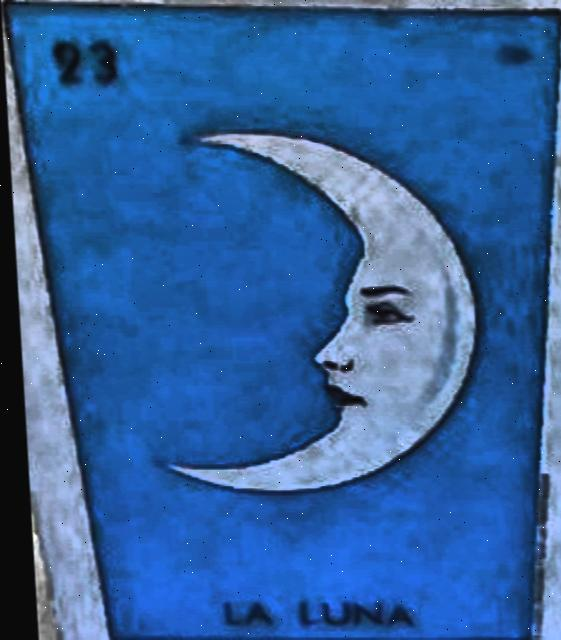La Luna: (5, 6, 559, 636)
